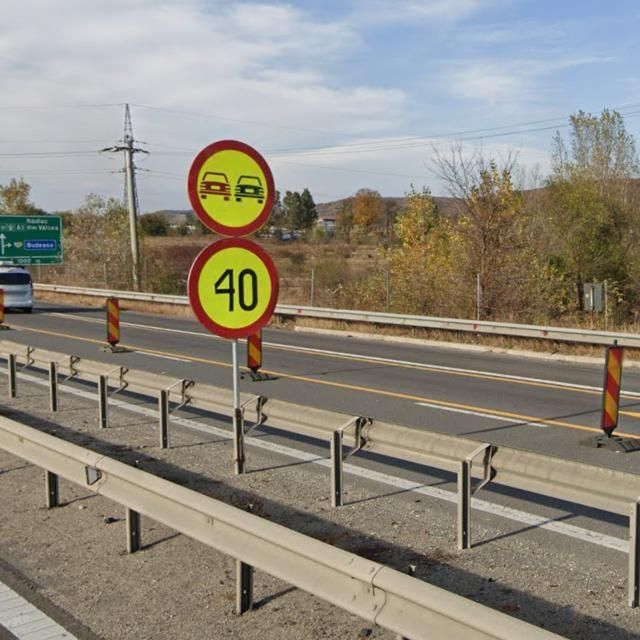forb_overtake: (189, 139, 277, 238)
forb_speed_over_40: (188, 241, 279, 339)
